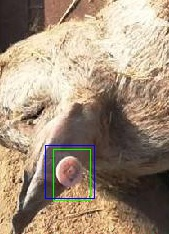text: (53, 149, 90, 200)
